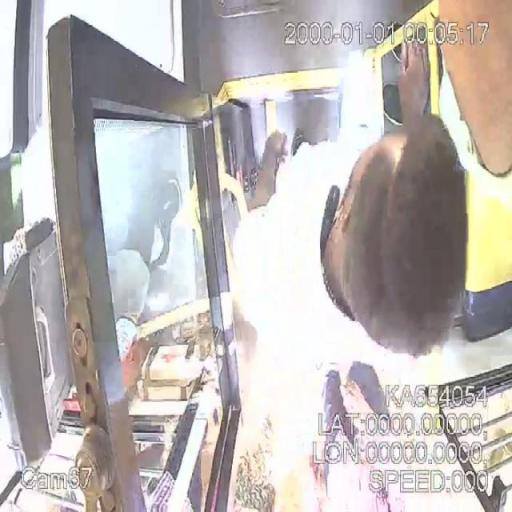persona: (234, 36, 470, 357), (294, 362, 408, 512)
